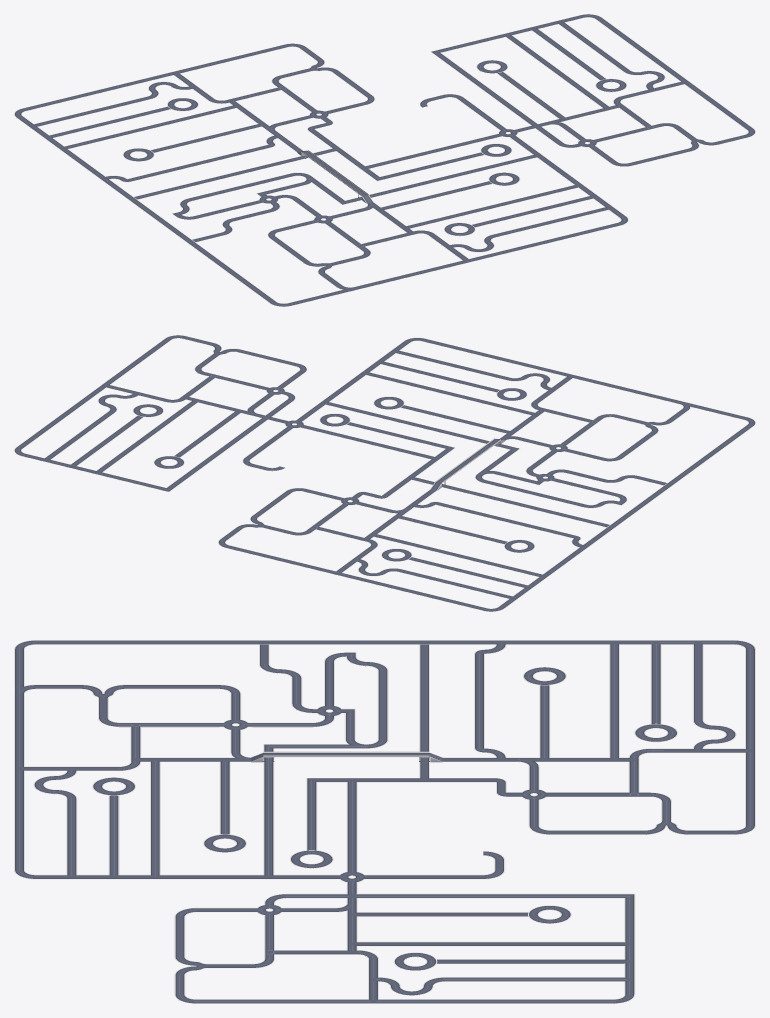
The model's file is all_roads_City3.glb.
3 views of the same model, one above another, from view 1: azimuth 30°, elevation 25°; view 2: azimuth 150°, elevation 25°; view 3: azimuth 270°, elevation 25° (orthographic). The views are drawn at different scales.
Visible parts, largest first — view 1: road-straight107, road-straight19, road-straight6, road-straight105, road-straight3, road-straight65, road-straight68, road-straight26, road-straight96, road-straight100, road-straight87, road-straight74 (+9 smaller); view 2: road-straight107, road-straight19, road-straight6, road-straight105, road-straight3, road-straight68, road-straight65, road-straight26, road-straight96, road-straight100, road-straight87, road-straight74 (+10 smaller); view 3: road-straight107, road-straight68, road-straight65, road-straight3, road-straight105, road-straight6, road-straight19, road-straight87, road-straight96, road-straight26, road-straight74, road-straight100 (+18 smaller).
Part boxes in pixels (x1,y1,x2,y2): road-straight107: [103, 179, 262, 293]; road-straight19: [134, 155, 306, 199]; road-straight6: [407, 185, 578, 228]; road-straight105: [64, 105, 235, 149]; road-straight3: [369, 154, 536, 197]; road-straight65: [434, 53, 537, 125]; road-straight68: [505, 35, 609, 107]; road-straight26: [469, 223, 620, 261]; road-straight96: [22, 72, 173, 111]; road-straight100: [128, 144, 271, 181]; road-straight87: [595, 17, 686, 81]; road-straight74: [365, 134, 499, 168]; road-straight107: [583, 434, 739, 546]; road-straight19: [442, 484, 609, 527]; road-straight6: [366, 372, 534, 415]; road-straight105: [374, 534, 542, 576]; road-straight3: [326, 402, 489, 443]; road-straight68: [96, 401, 197, 472]; road-straight65: [166, 418, 267, 489]; road-straight26: [422, 338, 569, 376]; road-straight96: [338, 573, 486, 610]; road-straight100: [435, 502, 577, 538]; road-straight87: [16, 386, 105, 448]; road-straight74: [303, 425, 434, 459]; road-straight107: [73, 640, 496, 644]; road-straight68: [357, 941, 625, 946]; road-straight65: [356, 893, 624, 898]; road-straight3: [263, 761, 274, 874]; road-straight105: [609, 644, 619, 757]; road-straight6: [150, 762, 160, 875]; road-straight19: [419, 644, 429, 758]; road-straight87: [378, 999, 613, 1003]; road-straight96: [745, 649, 755, 748]; road-straight26: [14, 770, 24, 869]; road-straight74: [346, 782, 357, 870]; road-straight100: [474, 653, 484, 748].
Size of the model in its own units: 549 by 4.43 by 473.
Materials: 13 (13 with a texture image).
